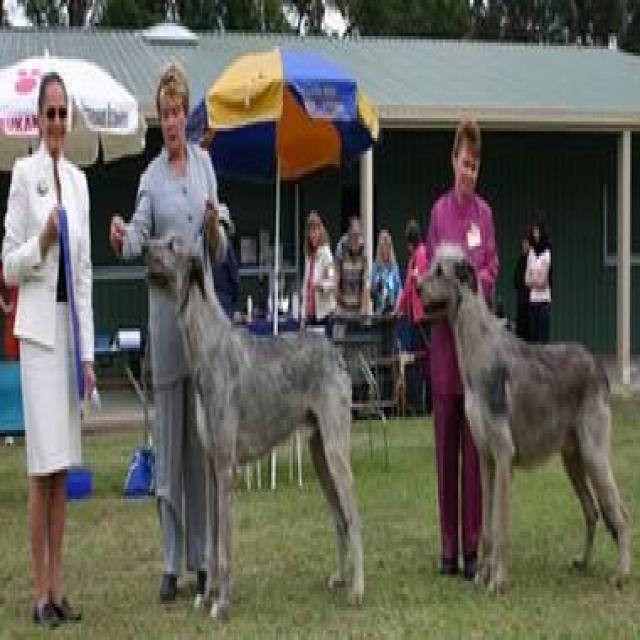irish_wolfhound: (137, 226, 367, 624), (420, 240, 634, 600)
